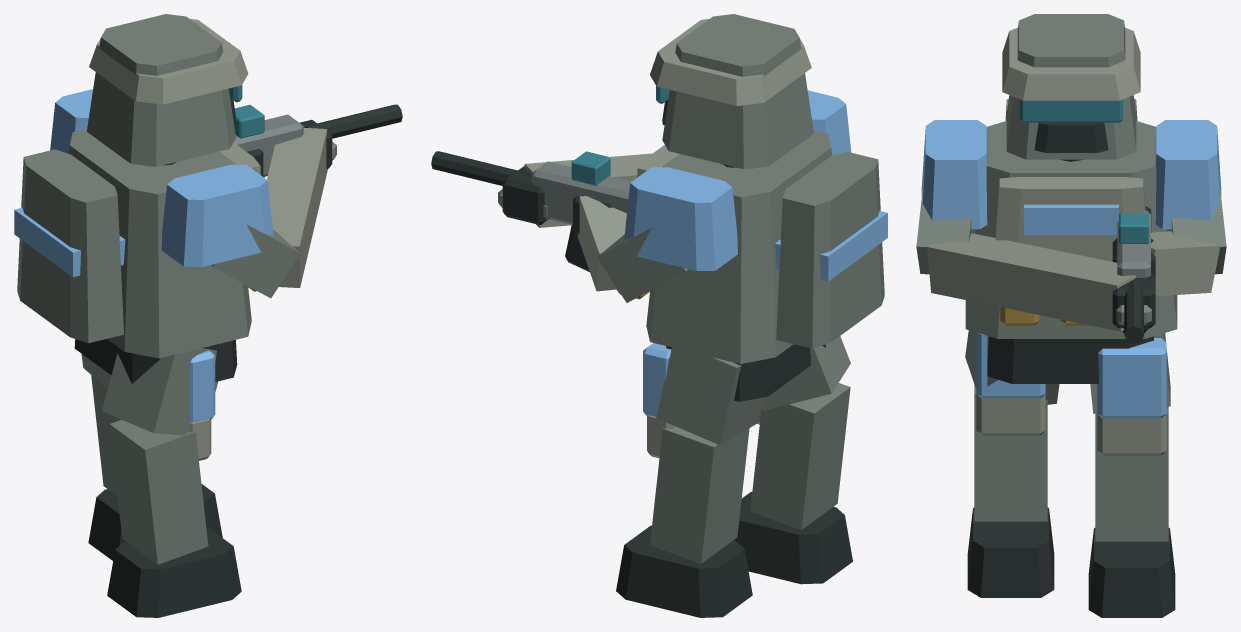
The model's file is rifleman.glb.
3 renders of one model, left to right at view 1: azimuth 30°, elevation 25°; view 2: azimuth 150°, elevation 25°; view 3: azimuth 270°, elevation 25°, orthographic. The views are drawn at different scales.
Parts seen in each view (by area): view 1: rifleman; view 2: rifleman; view 3: rifleman.
Boxes of the visible parts, x1=… form: rifleman: x1=14, y1=14, x2=402, y2=617; rifleman: x1=431, y1=14, x2=887, y2=617; rifleman: x1=916, y1=14, x2=1226, y2=617.
Size of the model in its own units: 1.06 by 1.39 by 0.7183.
